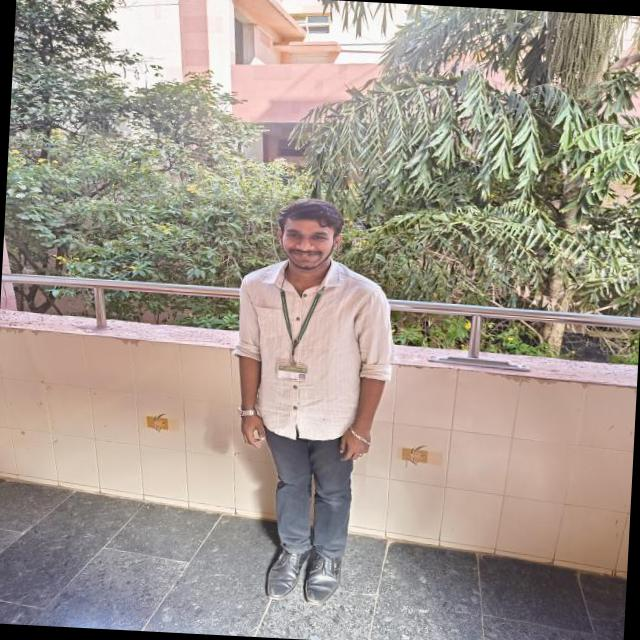id_card: (273, 277, 327, 386)
